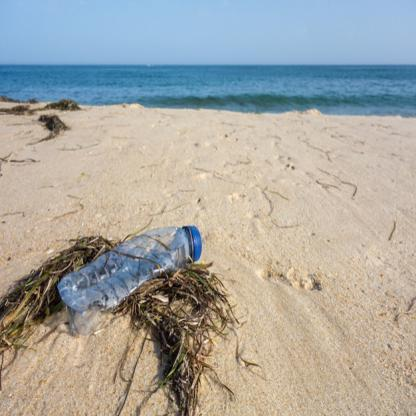Plastic: (54, 218, 206, 326)
